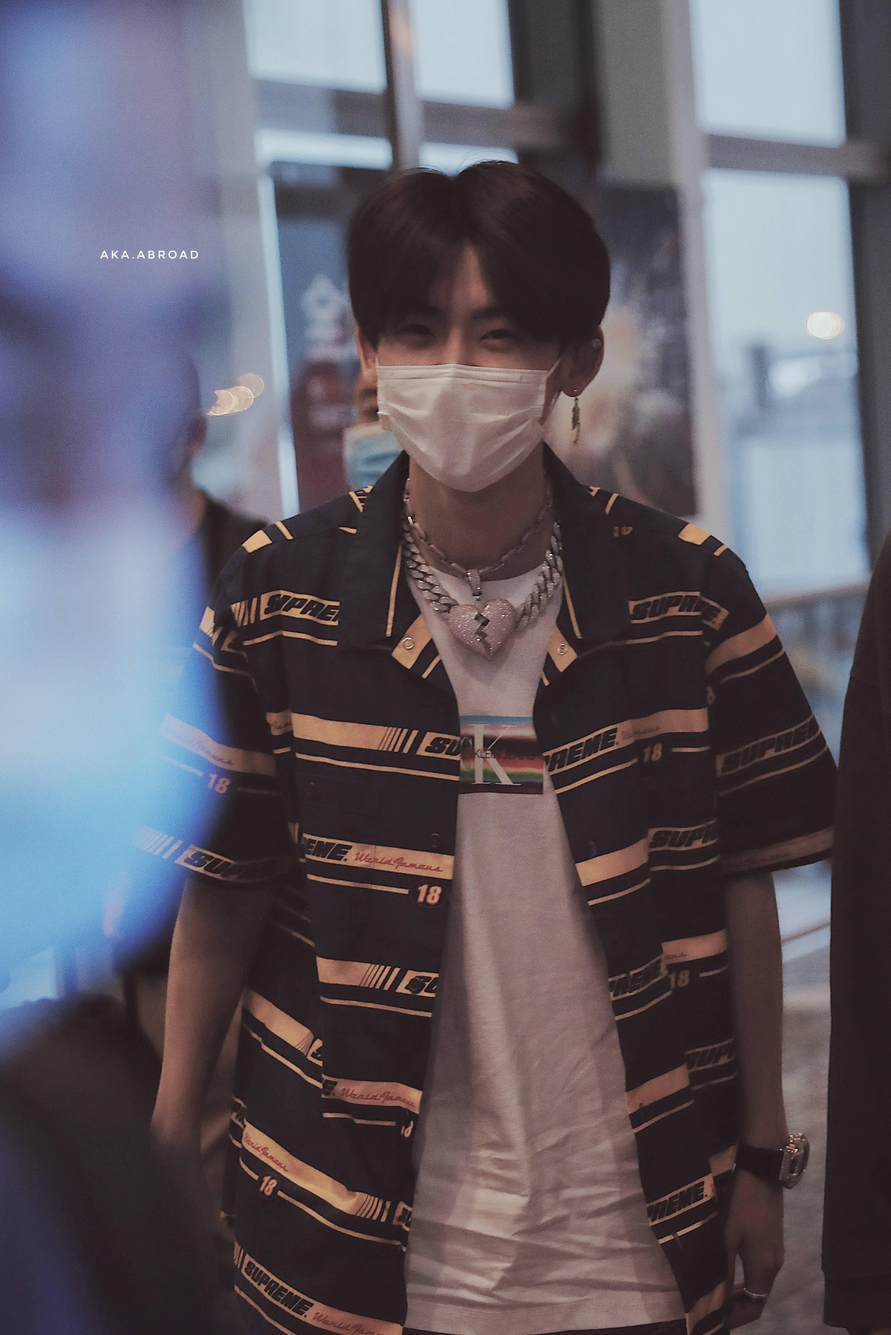OK: (377, 284, 553, 496)
